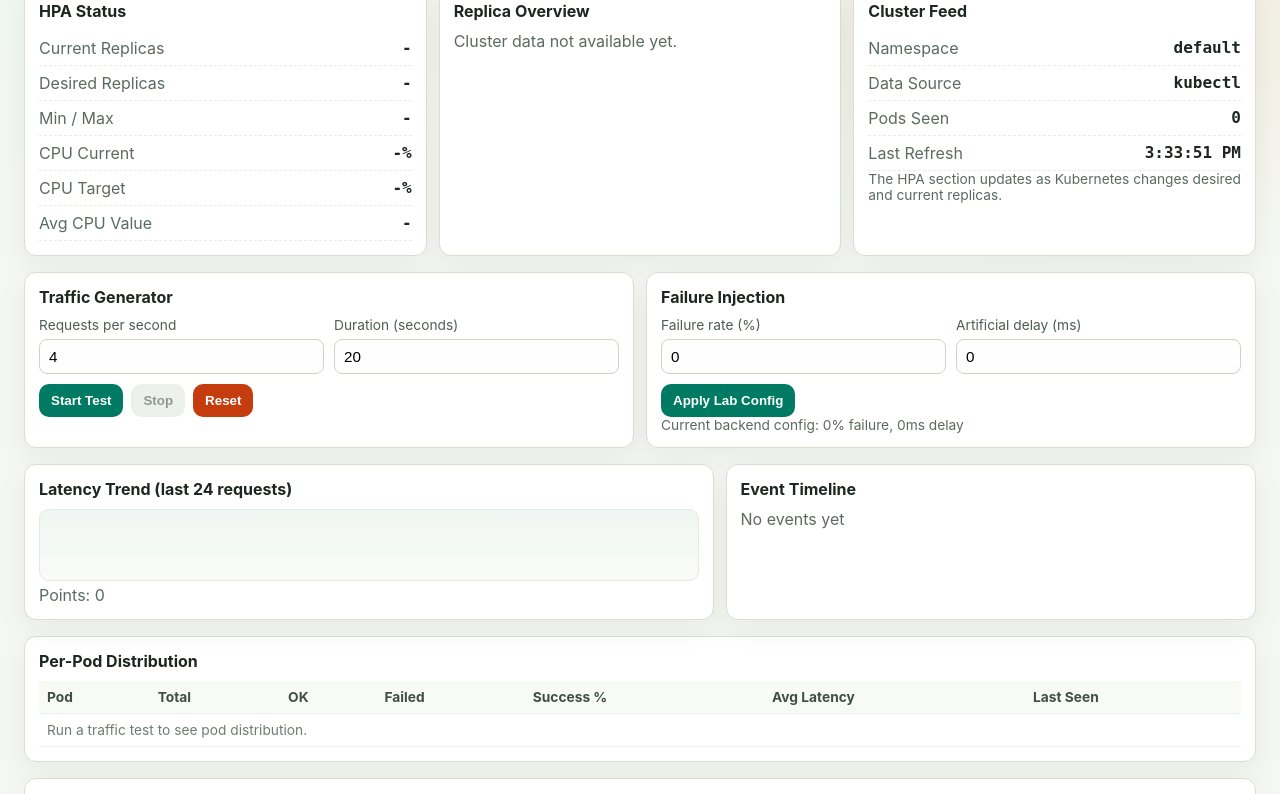
Test: App — traffic generator controls › enables Stop and disables Start after clicking Start Test
(page scrolled)
Click the button "Start Test" at (81, 400), box top-left (39, 384), bottom-right (124, 417)
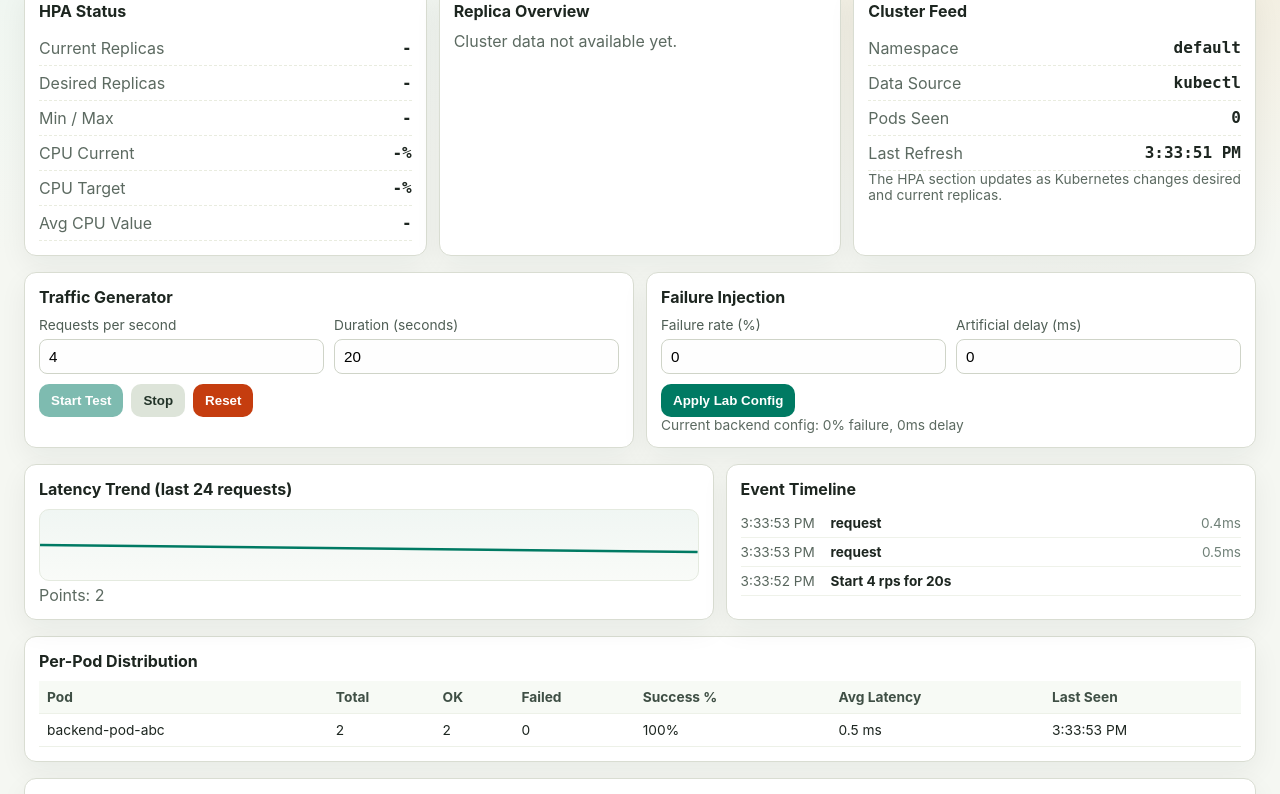
Now the button "Start Test" is disabled, box top-left (39, 384), bottom-right (124, 417)
Now the button "Stop" is enabled, box top-left (132, 384), bottom-right (185, 417)
